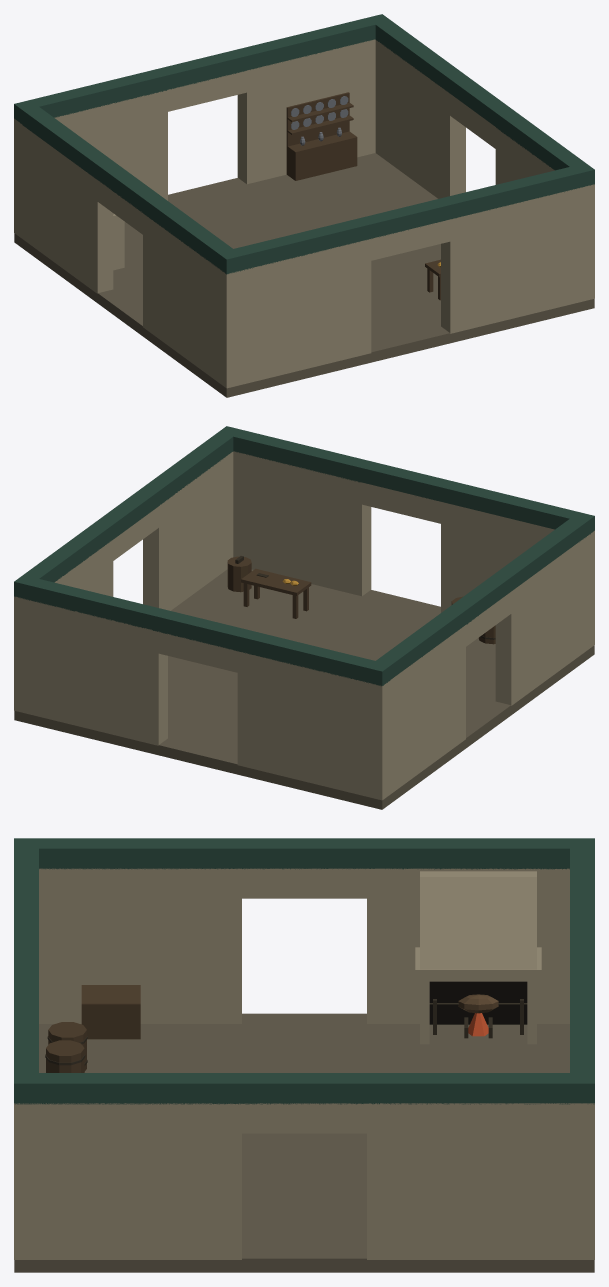
Rendered from LateSpitKitchen.fbx.
3 renders of one model, top to bottom at view 1: azimuth 30°, elevation 25°; view 2: azimuth 150°, elevation 25°; view 3: azimuth 270°, elevation 25°, orthographic. The views are drawn at different scales.
Parts seen in each view (by area): view 1: LateSpitKitchen; view 2: LateSpitKitchen; view 3: LateSpitKitchen.
Part boxes in pixels (bbox=[...]): LateSpitKitchen: bbox=[14, 14, 594, 397]; LateSpitKitchen: bbox=[14, 426, 594, 809]; LateSpitKitchen: bbox=[14, 838, 594, 1272].
Bounding box in the file's own units: 1202 × 432 × 1202.
Materials: 10 (10 with a texture image).
